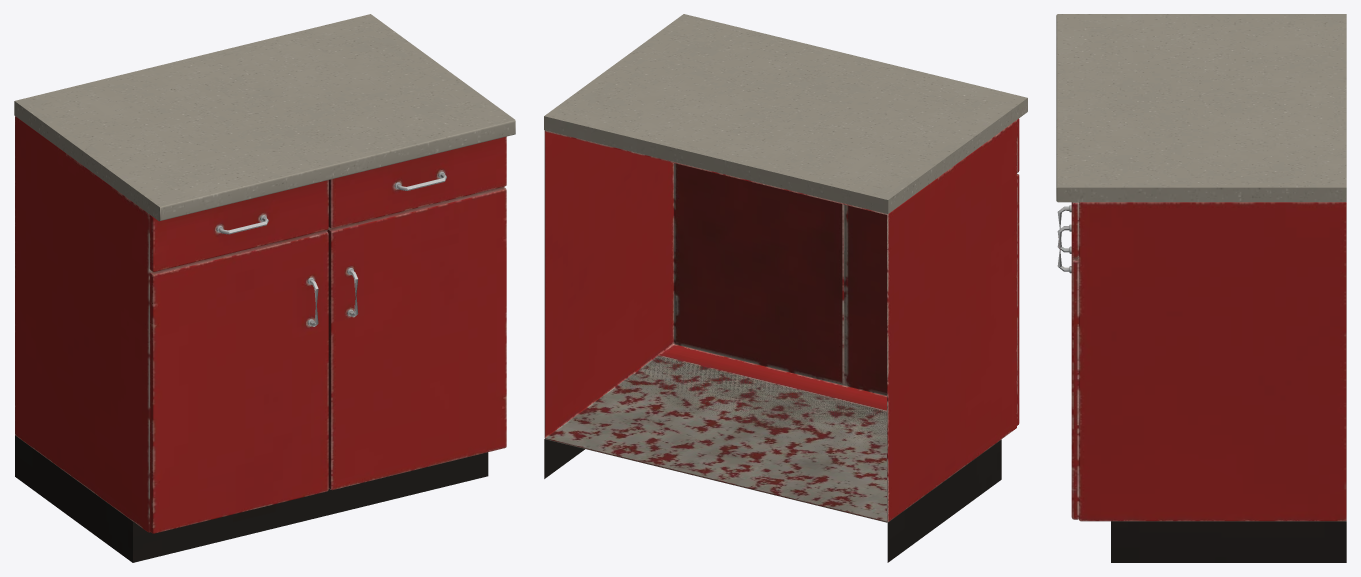
File: kit_base_90_red.glb
3 views of the same model, side by side, from view 1: azimuth 30°, elevation 25°; view 2: azimuth 150°, elevation 25°; view 3: azimuth 270°, elevation 25° (orthographic). The views are drawn at different scales.
Parts seen in each view (by area): view 1: kit_base_90_red; view 2: kit_base_90_red; view 3: kit_base_90_red.
Boxes of the visible parts, x1,y1,x2,y2 form: kit_base_90_red: (14,14,515,562); kit_base_90_red: (544,14,1027,562); kit_base_90_red: (1056,14,1346,562).
Size of the model in its own units: 0.898 by 0.905 by 0.635.
1 material, 1 textured.
